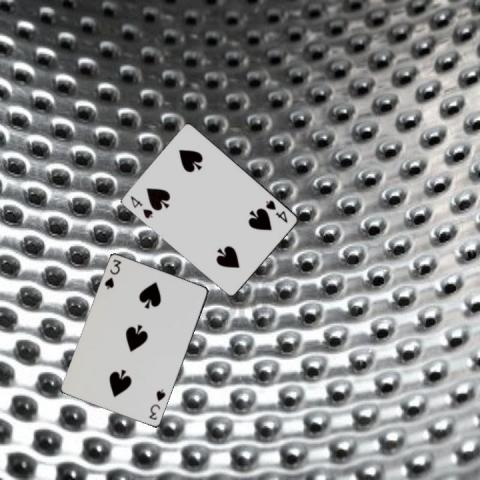3s: (101, 257, 123, 291), (146, 387, 166, 421)
4s: (128, 193, 155, 220), (263, 197, 289, 225)
